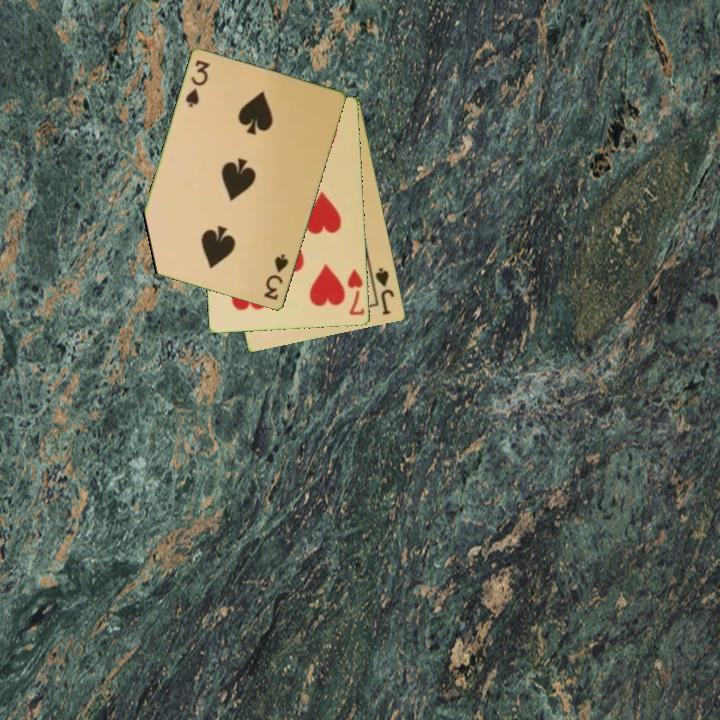3s: (182, 57, 213, 111), (260, 251, 292, 303)
7h: (344, 266, 368, 319)
Js: (372, 264, 397, 318)
